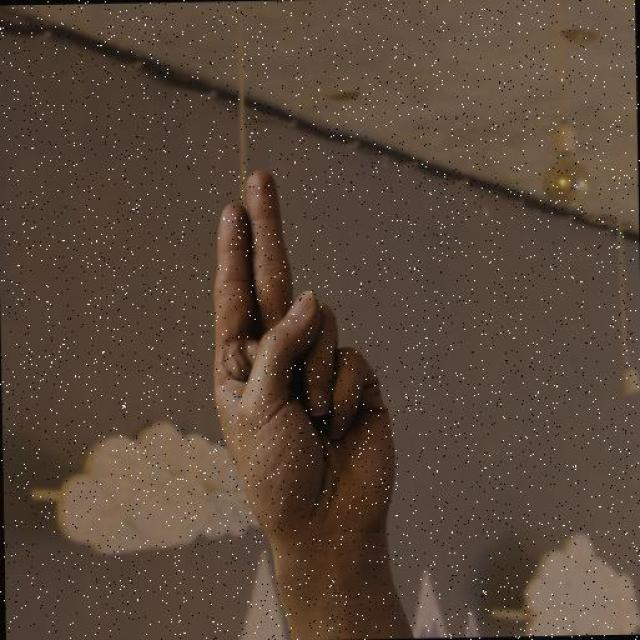U: (206, 163, 404, 539)
